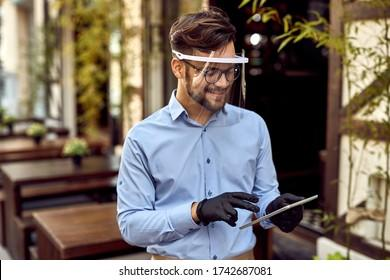gloves: (195, 191, 261, 228), (264, 193, 307, 233)
